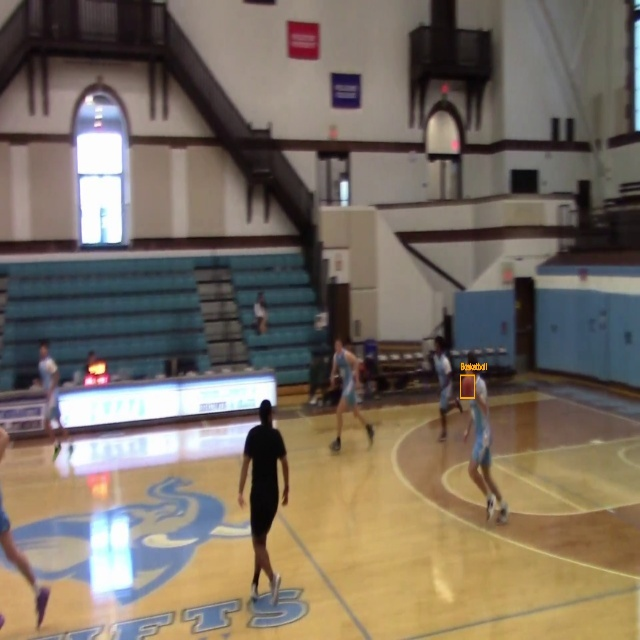Basketball: (461, 375, 475, 398)
